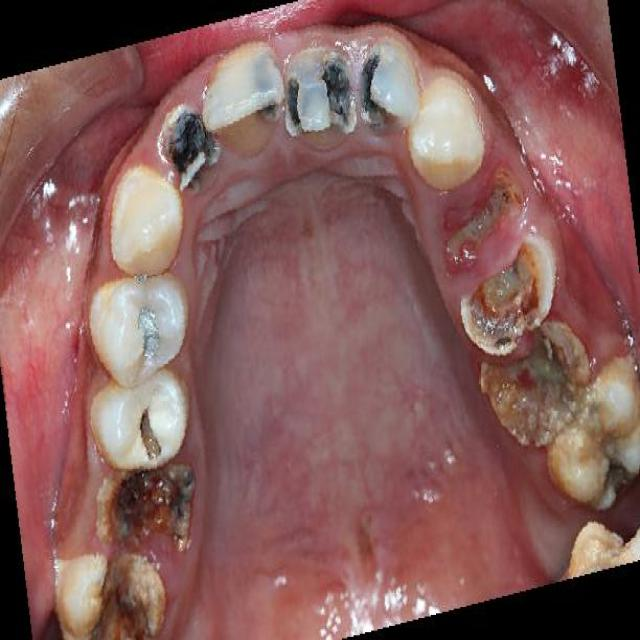caries: (104, 463, 215, 555), (61, 557, 164, 640), (494, 354, 586, 444), (464, 252, 551, 341), (436, 168, 528, 251), (287, 54, 357, 141), (157, 106, 211, 192), (360, 50, 398, 133), (130, 302, 171, 374), (594, 440, 637, 500), (256, 50, 285, 134), (137, 403, 168, 458)
